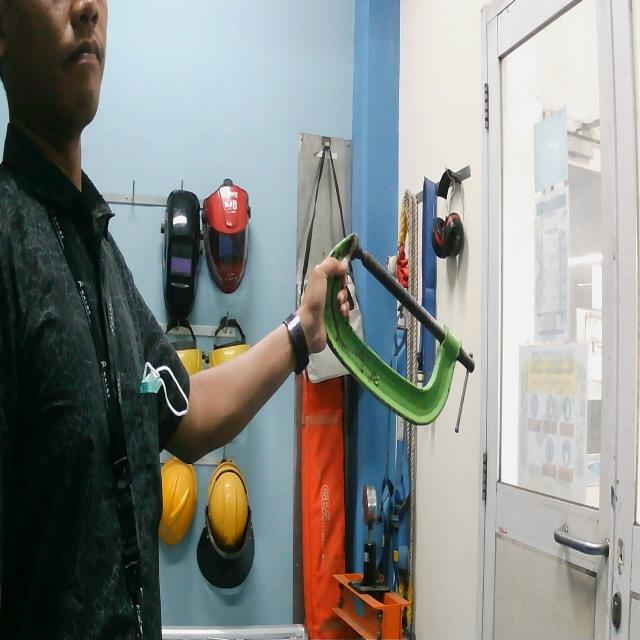tekiro_c_clamp: (297, 229, 479, 437)
